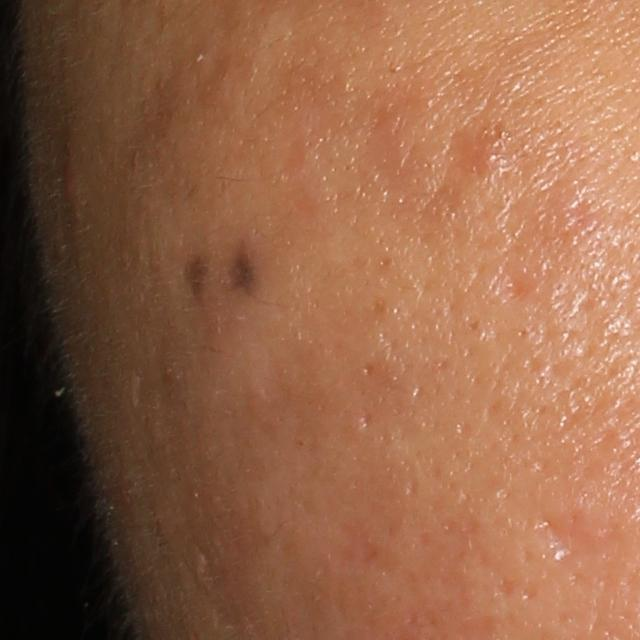atrophic_scar: (537, 505, 618, 564), (493, 248, 544, 305), (358, 407, 375, 429)
nevus: (228, 235, 265, 306), (179, 249, 214, 315)
